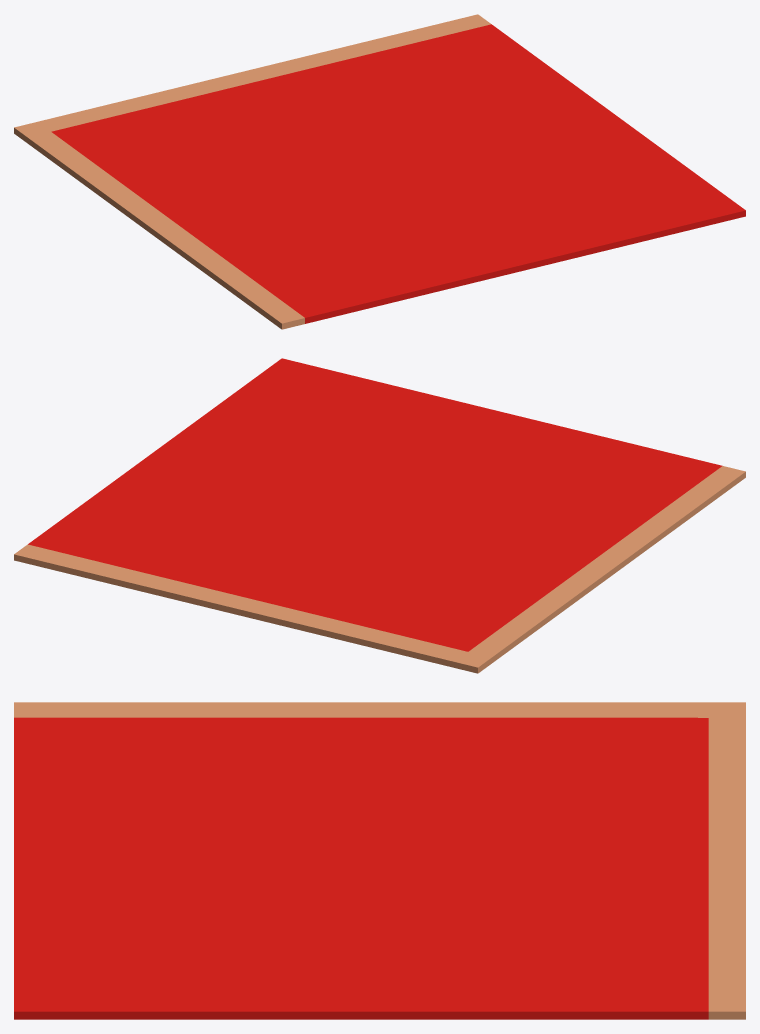
File: carpet-big-corner.fbx
3 renders of one model, top to bottom at view 1: azimuth 30°, elevation 25°; view 2: azimuth 150°, elevation 25°; view 3: azimuth 270°, elevation 25°, orthographic. The views are drawn at different scales.
Parts seen in each view (by area): view 1: carpet-big-corner; view 2: carpet-big-corner; view 3: carpet-big-corner.
Boxes of the visible parts, x1,y1,x2,y2 form: carpet-big-corner: (14,14,745,329); carpet-big-corner: (14,358,745,673); carpet-big-corner: (14,702,745,1019).
Bounding box in the file's own units: 400 × 5 × 400.
